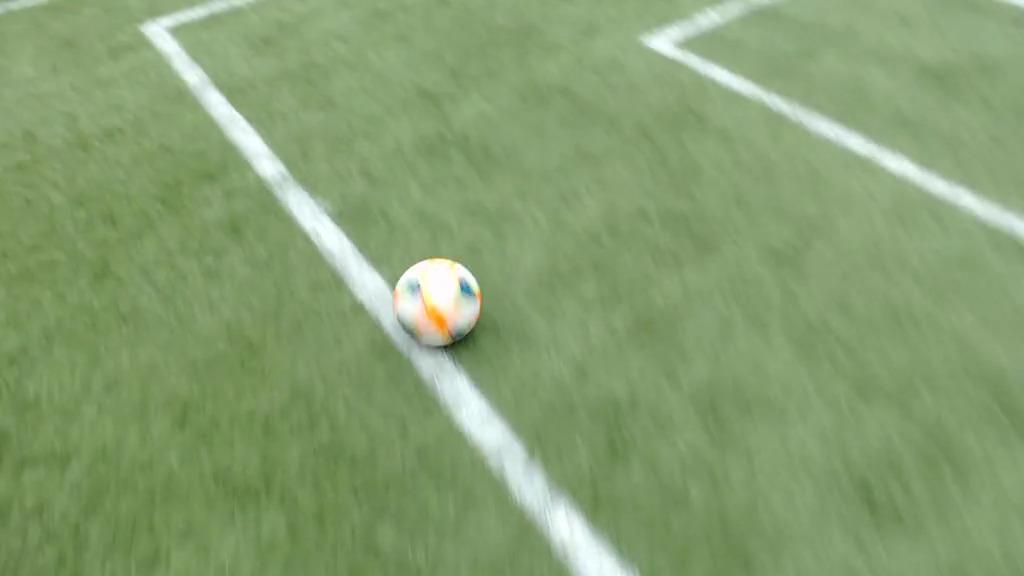ball: (394, 259, 482, 348)
